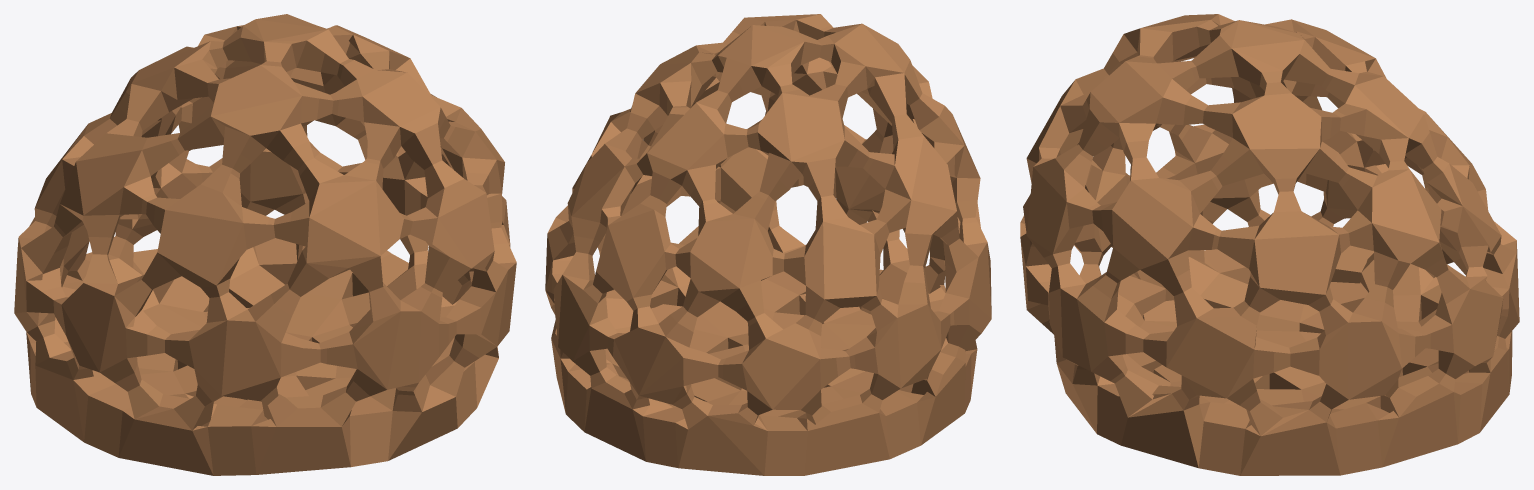
Rendered from LPSciFi_AlienPlantC.fbx.
3 renders of one model, left to right at view 1: azimuth 30°, elevation 25°; view 2: azimuth 150°, elevation 25°; view 3: azimuth 270°, elevation 25°, orthographic. The views are drawn at different scales.
Visible parts, largest first — view 1: AlienPlantC; view 2: AlienPlantC; view 3: AlienPlantC.
Boxes of the visible parts, left/top/right/bottom form: AlienPlantC: left=14, top=14, right=516, bottom=475; AlienPlantC: left=545, top=14, right=991, bottom=475; AlienPlantC: left=1020, top=14, right=1519, bottom=475.
Bounding box in the file's own units: 203 × 177 × 212.
